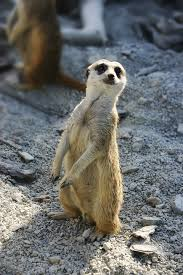meerkat: (46, 57, 146, 242)
